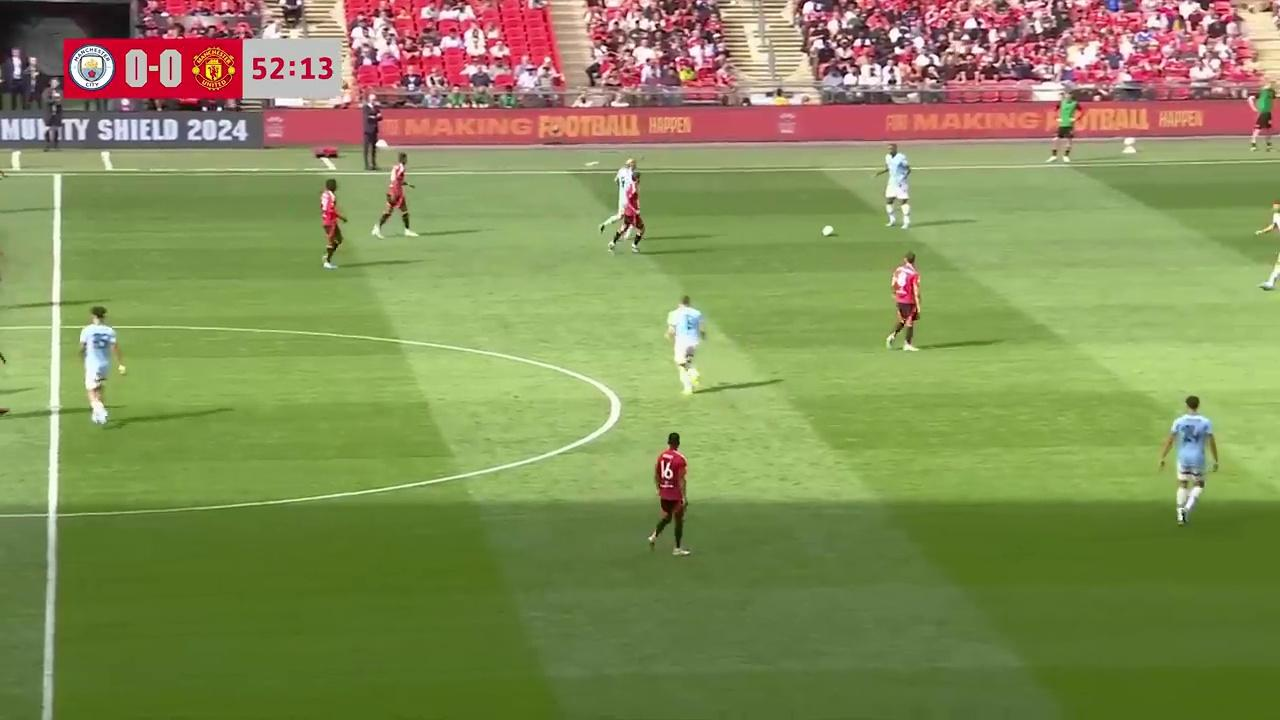ball: (821, 221, 836, 238)
player: (1161, 394, 1218, 525), (78, 306, 126, 425), (648, 432, 690, 556), (665, 294, 705, 394), (372, 153, 416, 238), (885, 252, 921, 352), (607, 177, 645, 254), (878, 145, 911, 228), (605, 158, 640, 235), (1257, 196, 1280, 299), (320, 180, 346, 269)
